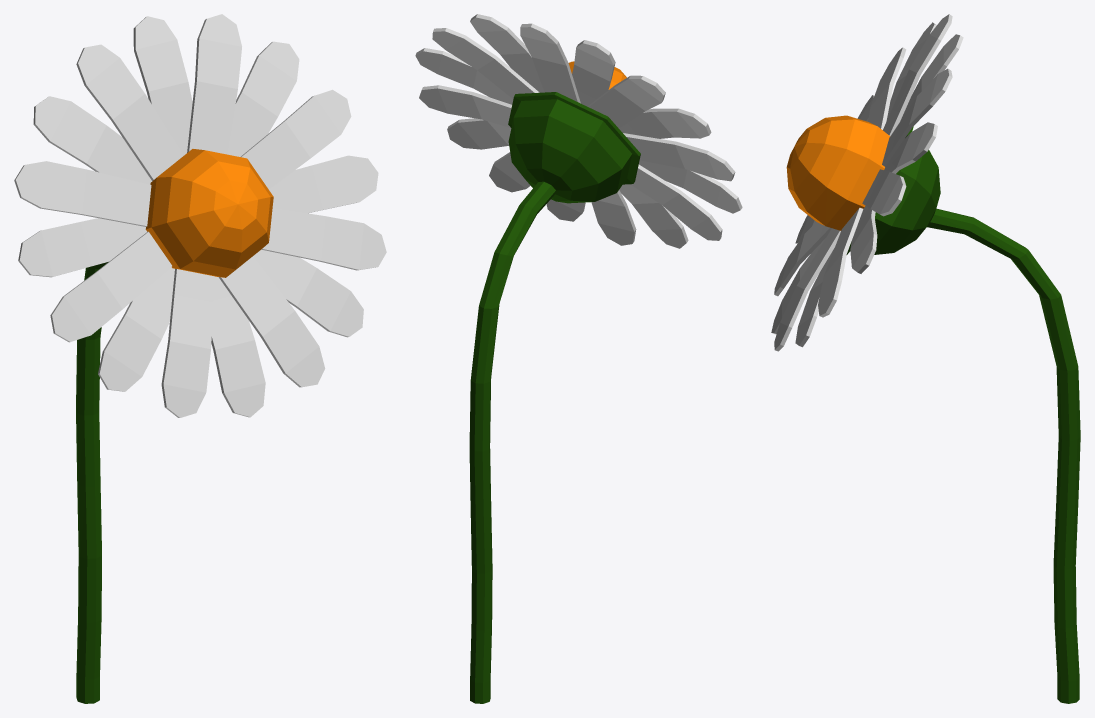
Rendered from daisy.obj.
3 renders of one model, left to right at view 1: azimuth 30°, elevation 25°; view 2: azimuth 150°, elevation 25°; view 3: azimuth 270°, elevation 25°, orthographic. The views are drawn at different scales.
Bounding box in the file's own units: 4.28 × 8.28 × 3.5.
